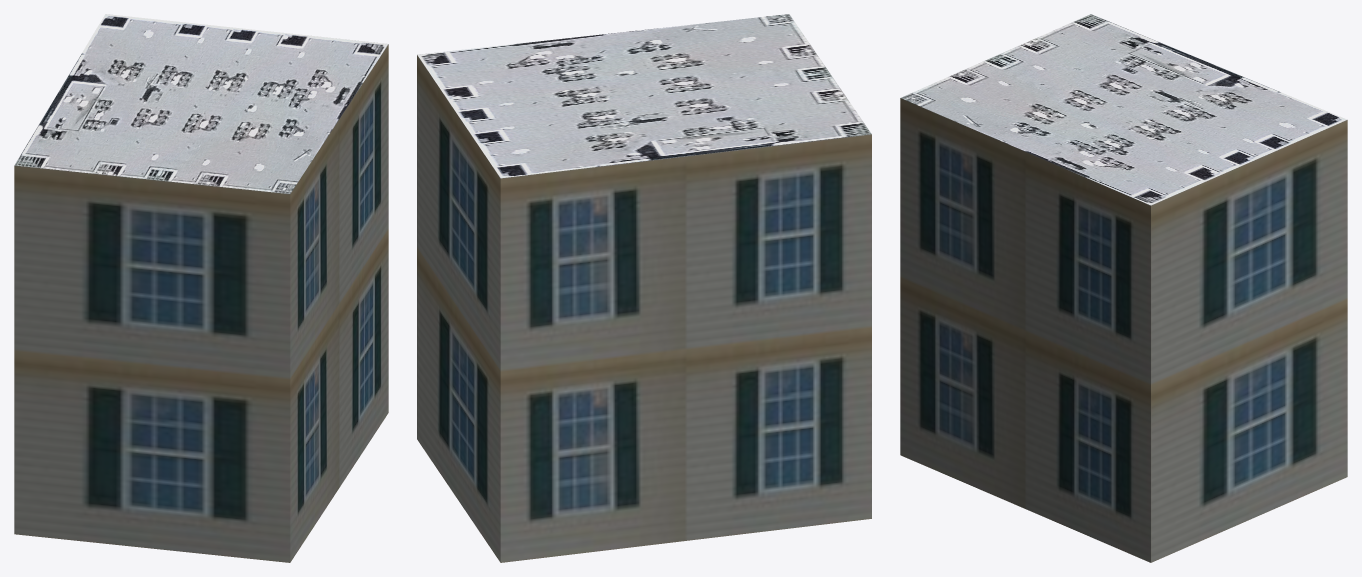
File: ResTex__2284.fbx
3 renders of one model, left to right at view 1: azimuth 30°, elevation 25°; view 2: azimuth 150°, elevation 25°; view 3: azimuth 270°, elevation 25°, orthographic. The views are drawn at different scales.
Parts seen in each view (by area): view 1: CityEngineMaterial_7_m, CityEngineMaterial_4_m; view 2: CityEngineMaterial_7_m, CityEngineMaterial_4_m; view 3: CityEngineMaterial_7_m, CityEngineMaterial_4_m.
Part boxes in pixels (box(x1,y1,x2,y2)): CityEngineMaterial_7_m: box(14, 44, 388, 562); CityEngineMaterial_4_m: box(14, 14, 388, 193); CityEngineMaterial_7_m: box(417, 55, 871, 562); CityEngineMaterial_4_m: box(417, 14, 871, 178); CityEngineMaterial_7_m: box(900, 98, 1347, 562); CityEngineMaterial_4_m: box(901, 14, 1346, 205).
Size of the model in its own units: 6.9 by 6 by 6.8.
Materials: 2 (2 with a texture image).
